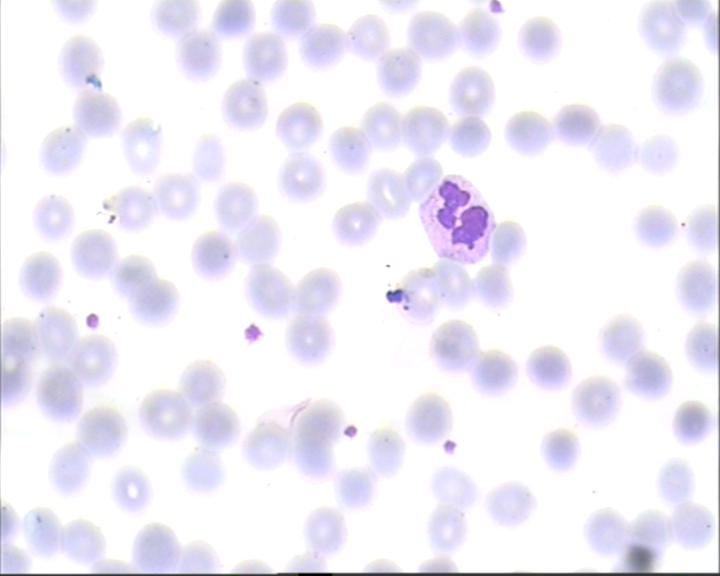neut: (419, 170, 505, 266)
